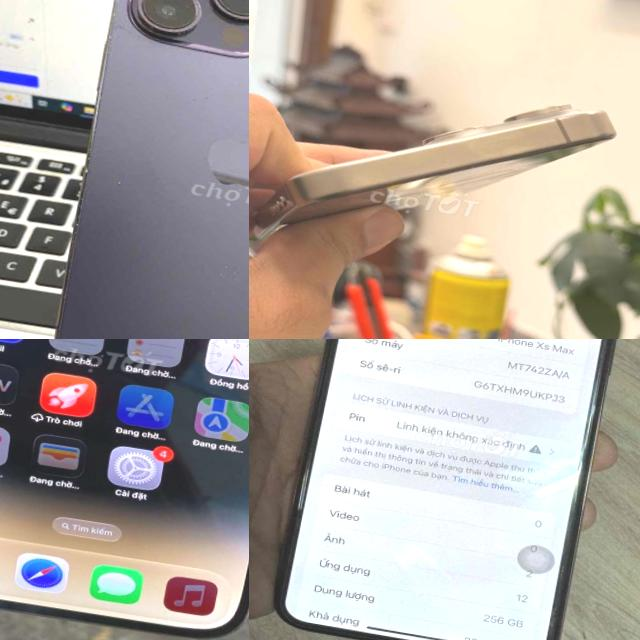gen_14: (0, 339, 249, 640), (37, 0, 249, 339)
gen_15: (249, 38, 616, 295)
gen_x_xs: (266, 339, 640, 640)
